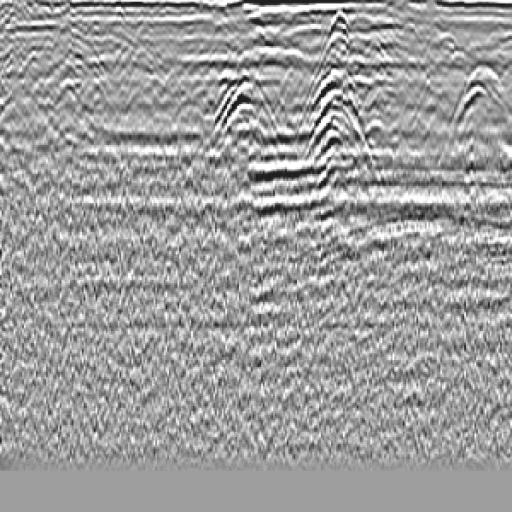metalic: (290, 7, 397, 219)
nonmetalic: (207, 53, 282, 173), (436, 49, 509, 143)
